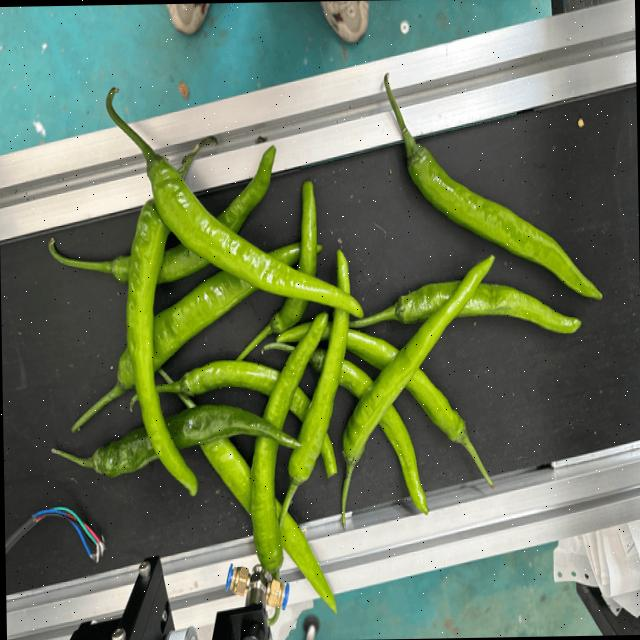chili: (143, 149, 366, 317), (337, 247, 495, 464), (111, 238, 326, 392), (184, 403, 336, 616), (403, 140, 604, 299), (109, 138, 276, 284), (272, 319, 467, 444), (123, 195, 199, 499), (308, 349, 430, 517), (173, 356, 338, 480), (90, 400, 303, 476), (285, 241, 349, 486), (390, 277, 585, 334), (268, 175, 316, 334)
